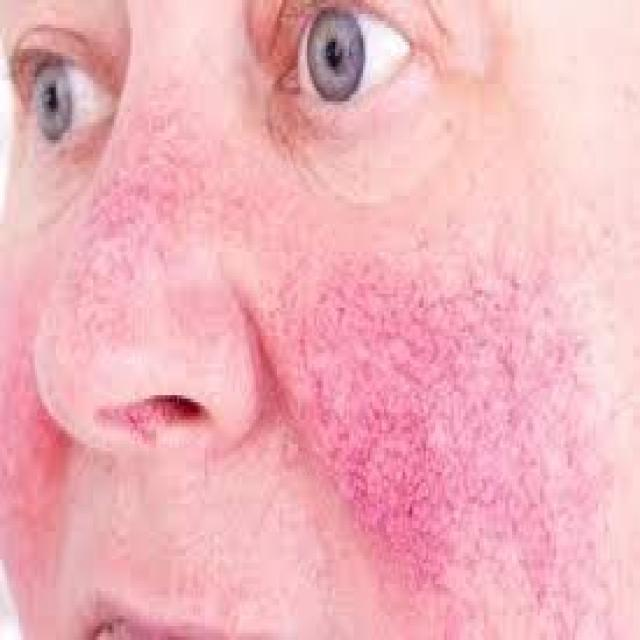Rosacea: (249, 244, 607, 636), (74, 93, 252, 347), (0, 255, 72, 605)
